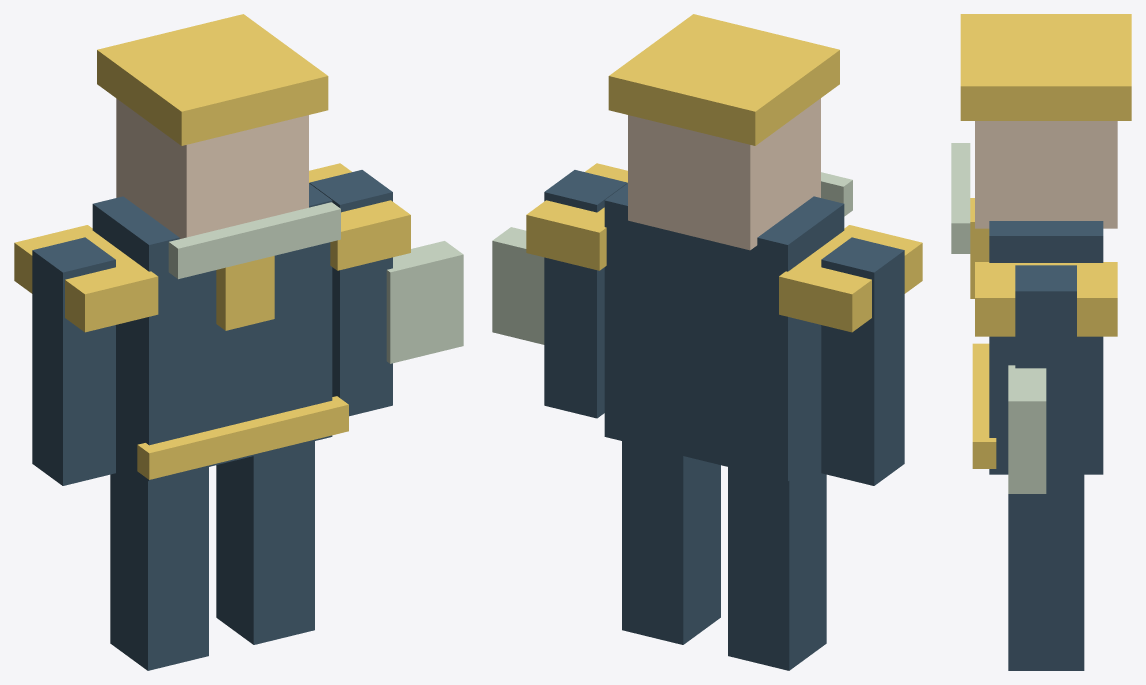
File: 14_zerin_spirebound_courier_of_power.glb
The picture shows the model from 3 angles, left to right: view 1: azimuth 30°, elevation 25°; view 2: azimuth 150°, elevation 25°; view 3: azimuth 270°, elevation 25°; orthographic projection.
Visible parts, largest first — view 1: Zerin Spirebound, Courier of Power; view 2: Zerin Spirebound, Courier of Power; view 3: Zerin Spirebound, Courier of Power.
Boxes of the visible parts, left/top/right/bottom form: Zerin Spirebound, Courier of Power: left=14, top=14, right=463, bottom=670; Zerin Spirebound, Courier of Power: left=492, top=14, right=922, bottom=670; Zerin Spirebound, Courier of Power: left=951, top=14, right=1131, bottom=670.
Size of the model in its own units: 1.07 by 1.48 by 0.4166.
